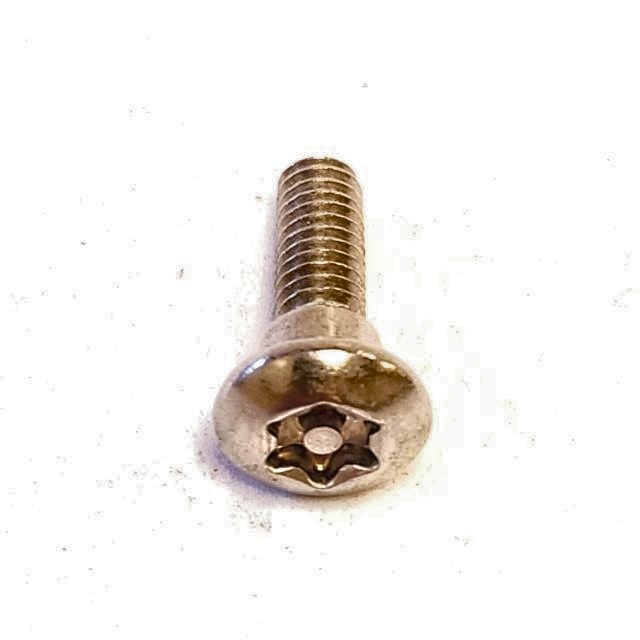torx: (211, 341, 433, 497)
